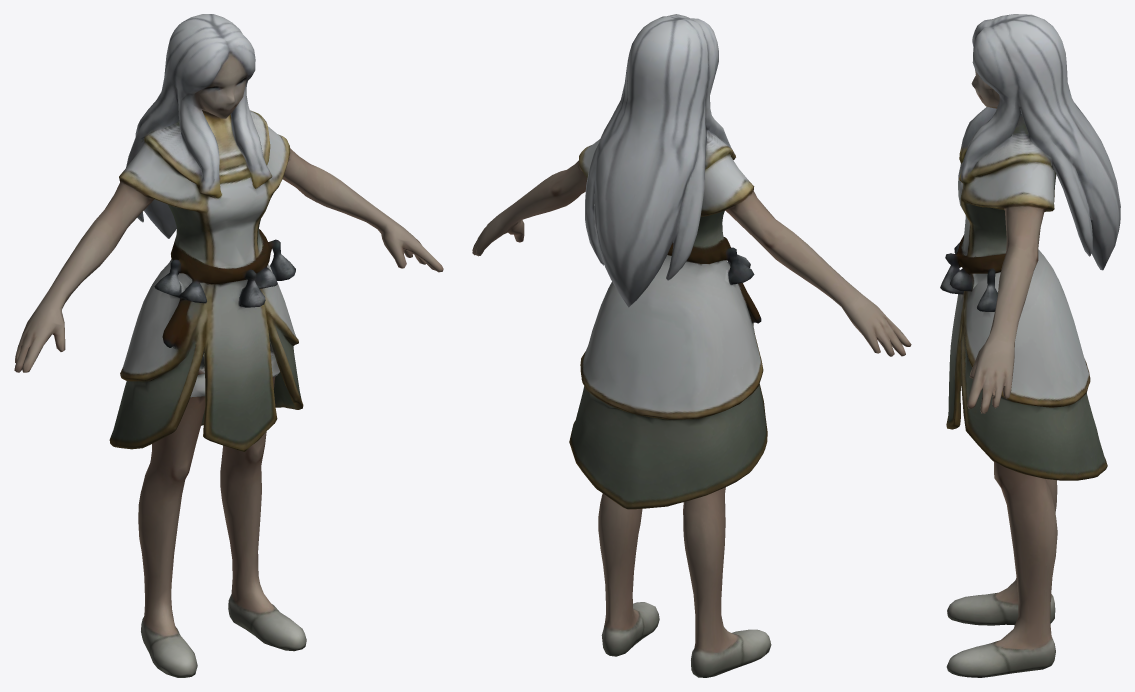
File: bell-priestess.glb
The picture shows the model from 3 angles, left to right: view 1: azimuth 30°, elevation 25°; view 2: azimuth 150°, elevation 25°; view 3: azimuth 270°, elevation 25°; orthographic projection. The views are drawn at different scales.
Visible parts, largest first — view 1: geometry_0; view 2: geometry_0; view 3: geometry_0.
Part boxes in pixels (x1,y1,x2,y2): geometry_0: (14, 14, 443, 677); geometry_0: (472, 14, 911, 677); geometry_0: (940, 14, 1120, 677).
Bounding box in the file's own units: 0.7168 × 1 × 0.2629.
Materials: 1 (1 with a texture image).
